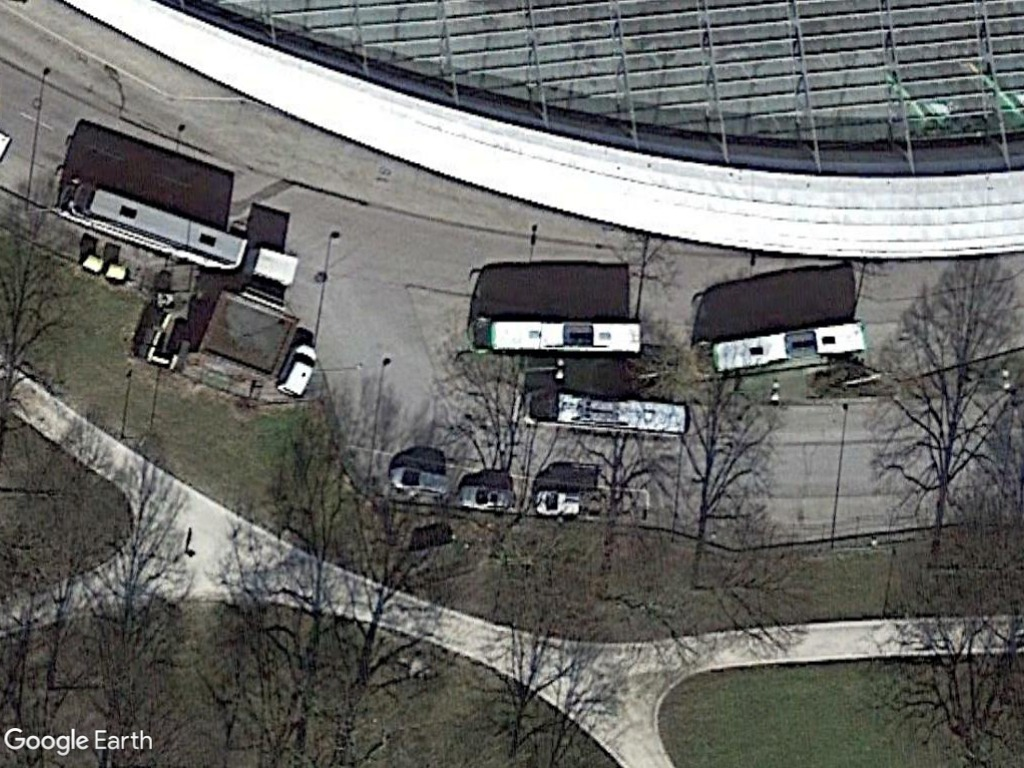bus: (58, 176, 251, 274), (698, 317, 870, 380), (468, 311, 646, 362)
van: (271, 341, 323, 401)
